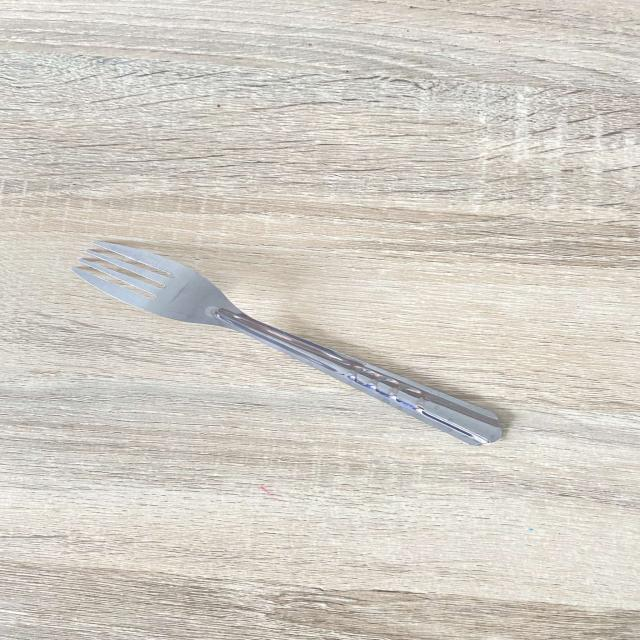fork: (73, 235, 520, 455)
